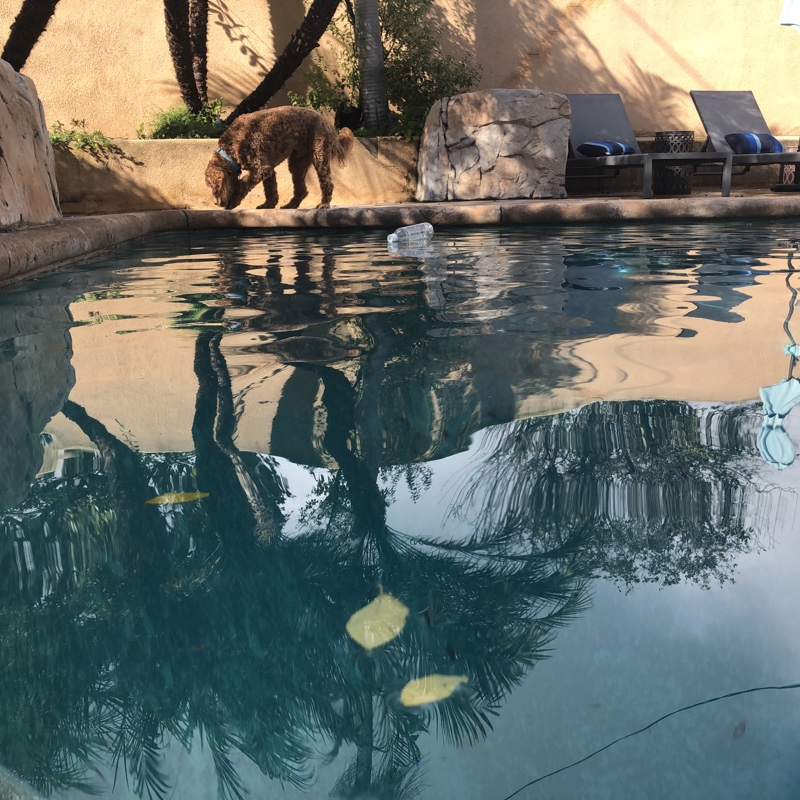Plastic Bottle: (385, 218, 437, 247)
